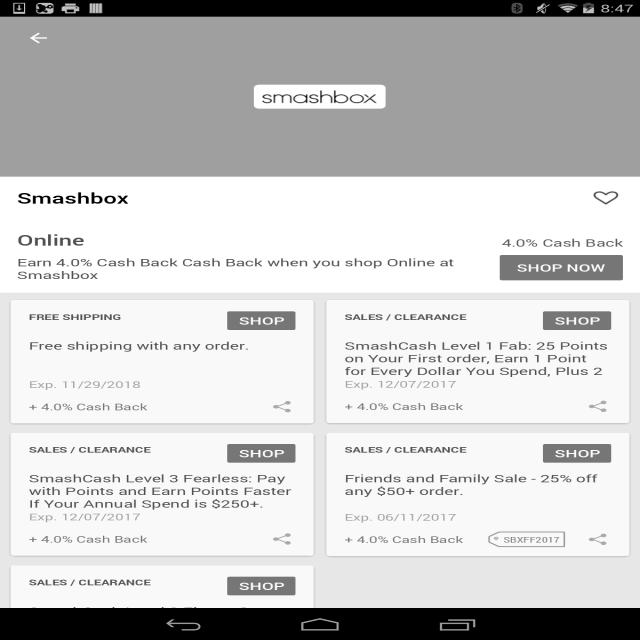Button: (500, 255, 623, 280), (227, 311, 296, 330), (227, 444, 296, 463), (543, 311, 611, 330), (543, 444, 611, 463), (227, 577, 296, 595)
ImageButton: (9, 19, 68, 57), (253, 390, 312, 422), (569, 390, 628, 422), (253, 523, 312, 555), (569, 524, 628, 556)
ImageView: (0, 17, 640, 176), (254, 85, 385, 108), (580, 177, 632, 219)
TextView: (17, 255, 483, 282), (29, 338, 295, 378), (345, 338, 611, 378), (345, 471, 611, 511), (29, 471, 295, 510), (28, 603, 295, 640), (17, 177, 129, 219), (501, 235, 623, 250), (485, 530, 568, 550), (344, 400, 463, 413), (344, 533, 463, 546), (29, 400, 147, 413), (29, 576, 151, 588), (29, 378, 141, 391), (29, 510, 141, 523), (29, 533, 147, 545), (17, 230, 85, 250), (344, 378, 456, 390), (344, 511, 456, 523), (29, 444, 151, 455), (344, 444, 466, 455), (344, 312, 466, 322), (28, 312, 122, 322)
